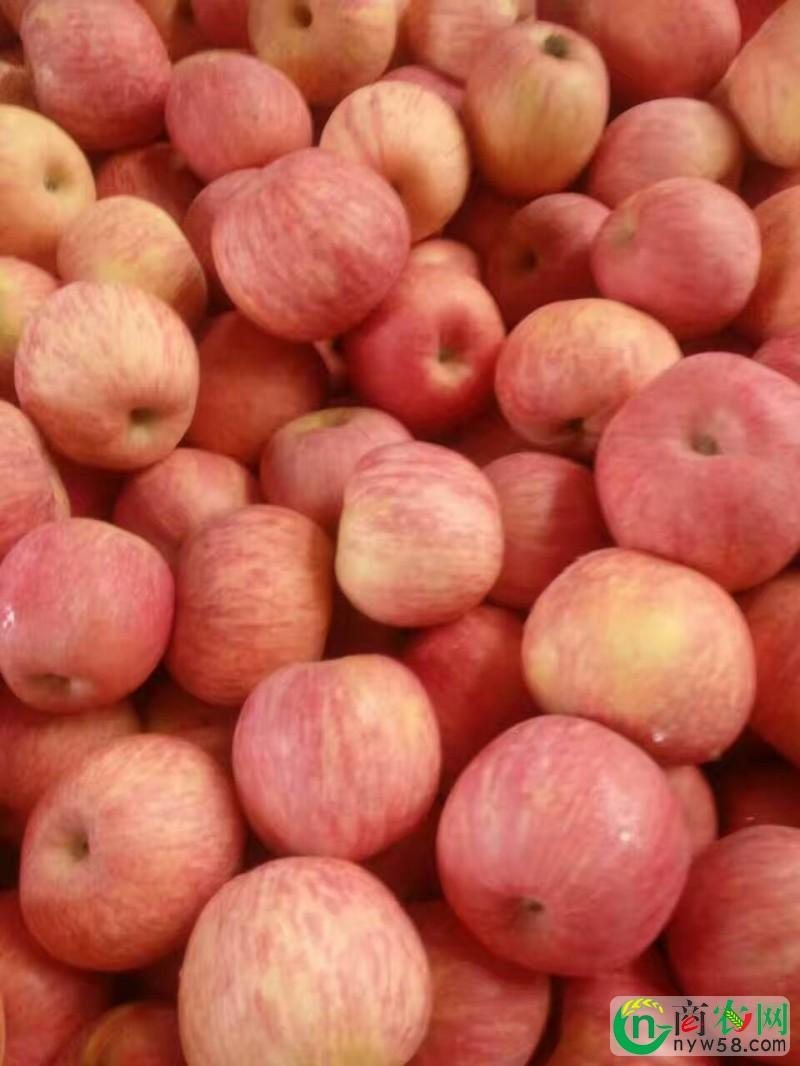apple: (437, 711, 685, 971), (526, 534, 773, 754), (184, 849, 438, 1060), (17, 727, 241, 962), (590, 354, 799, 591), (237, 649, 447, 849), (214, 148, 416, 330), (13, 283, 202, 477), (1, 516, 174, 712), (339, 442, 505, 628), (172, 505, 338, 691), (498, 298, 685, 445), (588, 172, 761, 330), (461, 22, 609, 206), (318, 81, 471, 226), (351, 273, 504, 418), (15, 4, 168, 143), (244, 1, 400, 115), (1, 104, 96, 267), (731, 574, 799, 768)
